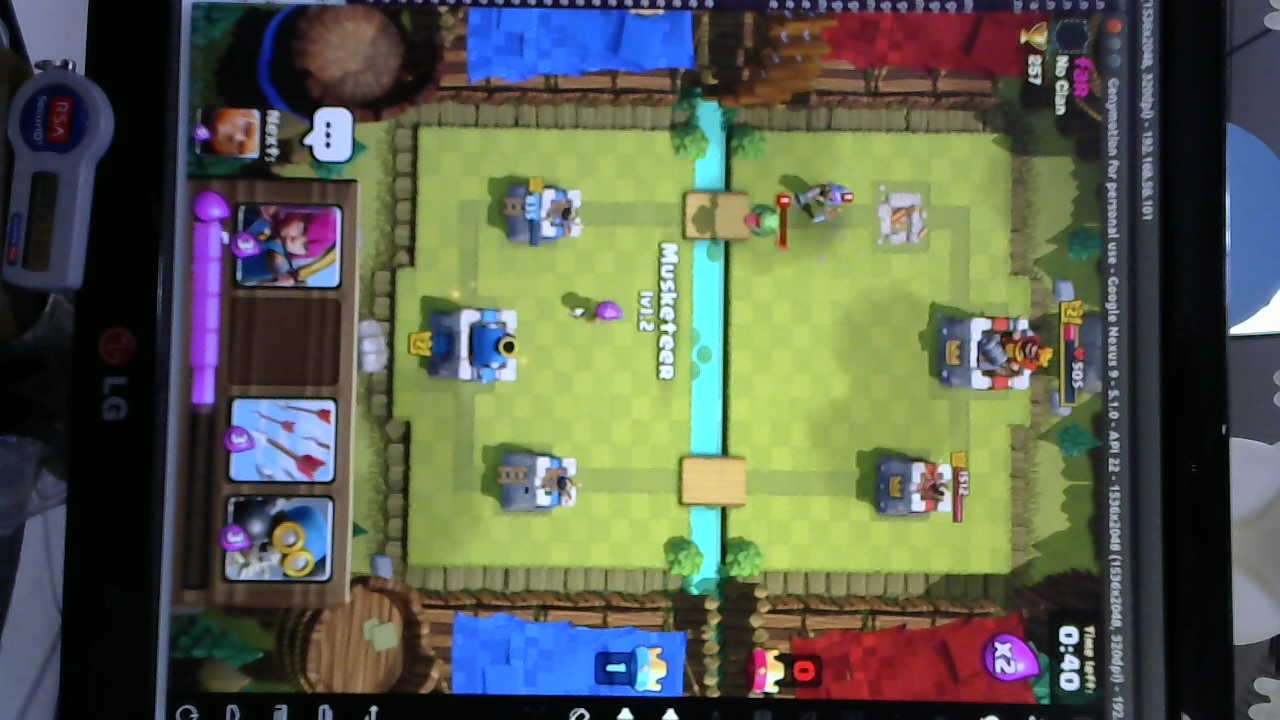arena: (497, 446, 584, 516), (500, 182, 582, 247)
darena: (871, 190, 929, 249)
dragon: (744, 195, 785, 241)
earena: (868, 456, 954, 525)
eking: (941, 309, 1044, 396)
king: (428, 302, 521, 385)
musketeer: (794, 173, 861, 214)
